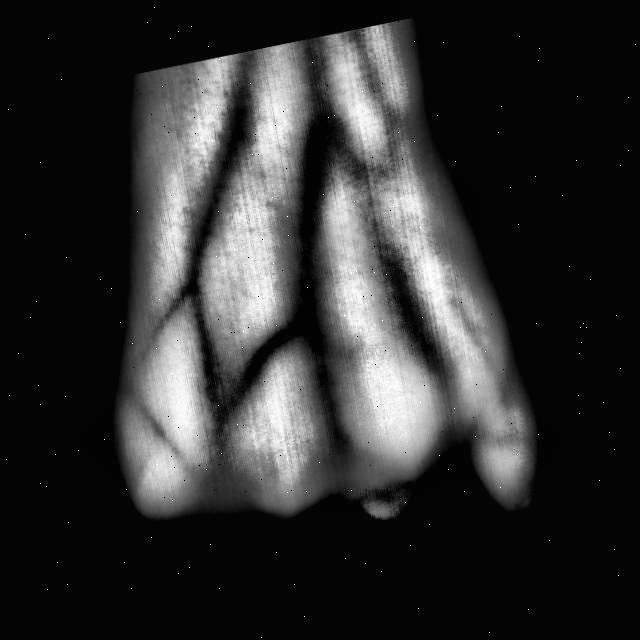Vein: (288, 117, 336, 303)
